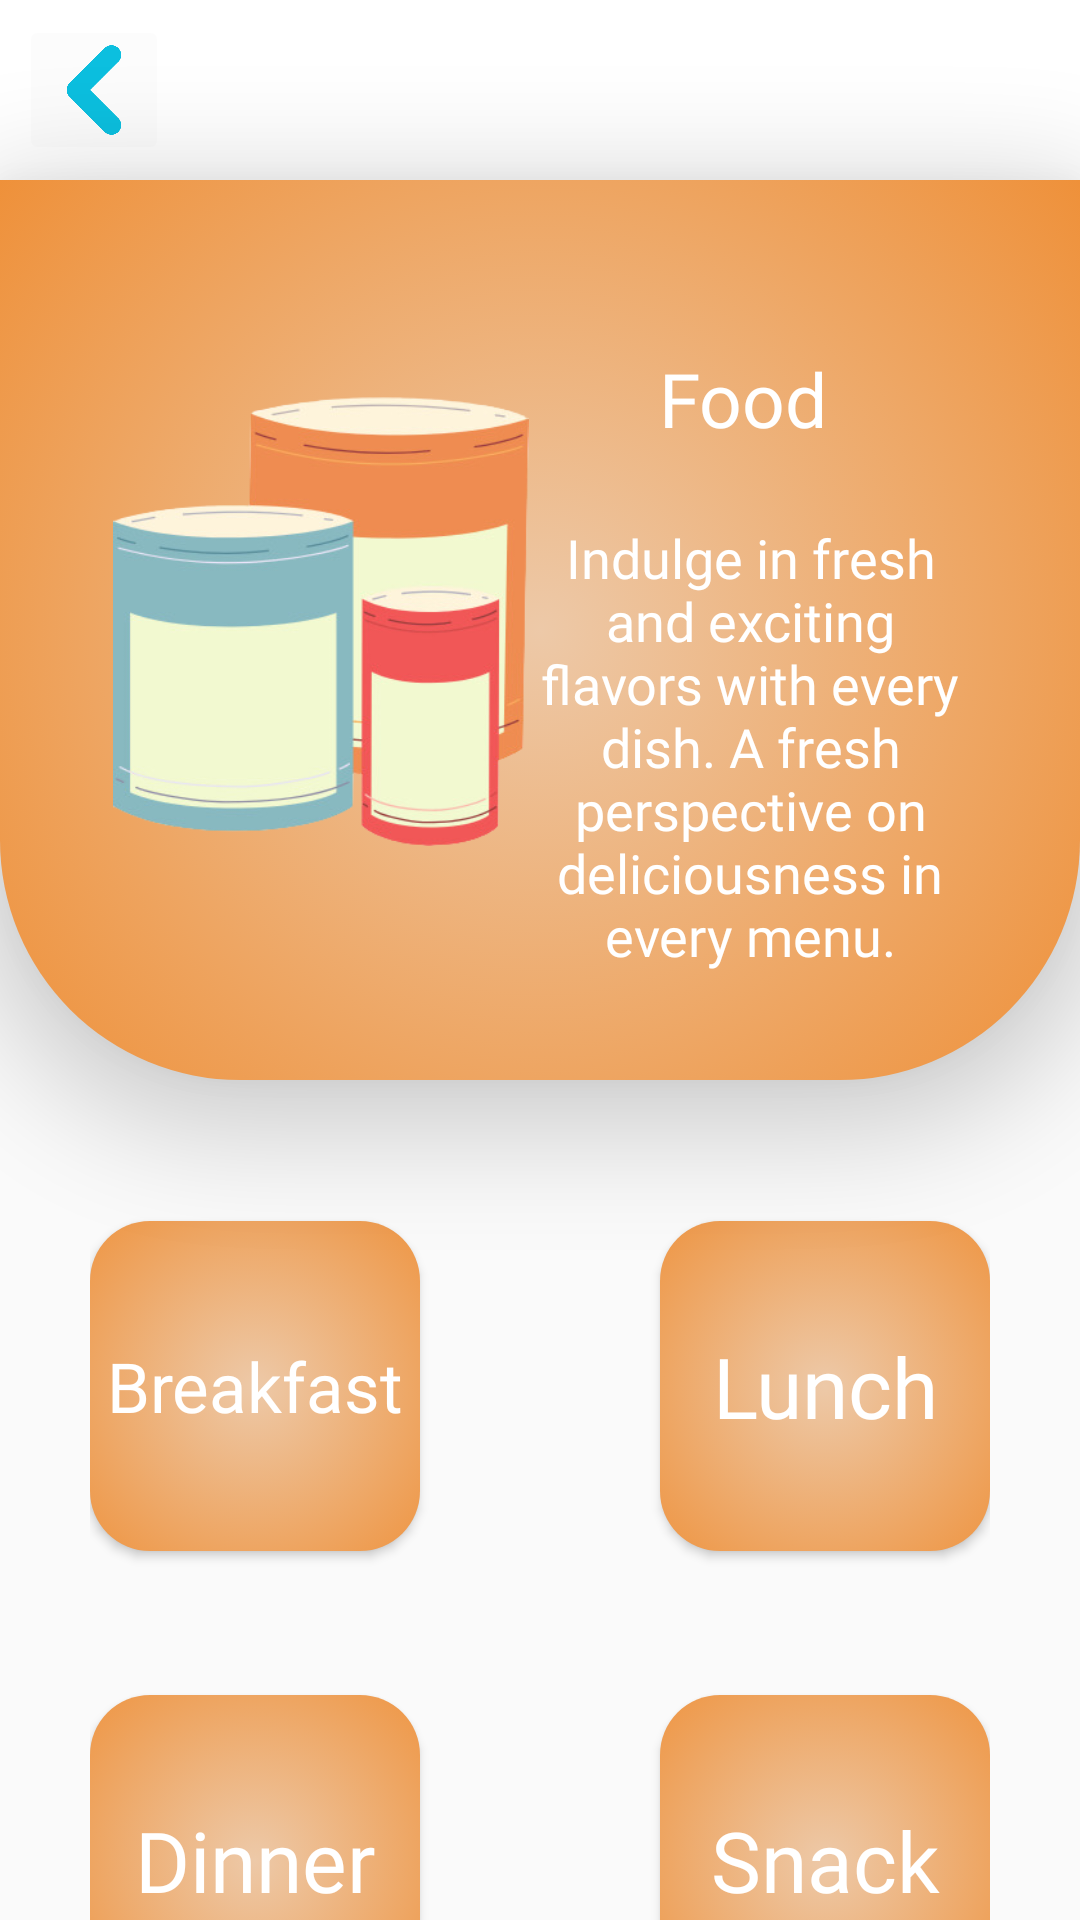

Icon click points for this 1080×1920 phone screenshot, format (x=x, y=y):
back: (x=94, y=90)
